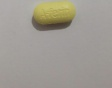Aferin: (31, 1, 77, 27)
